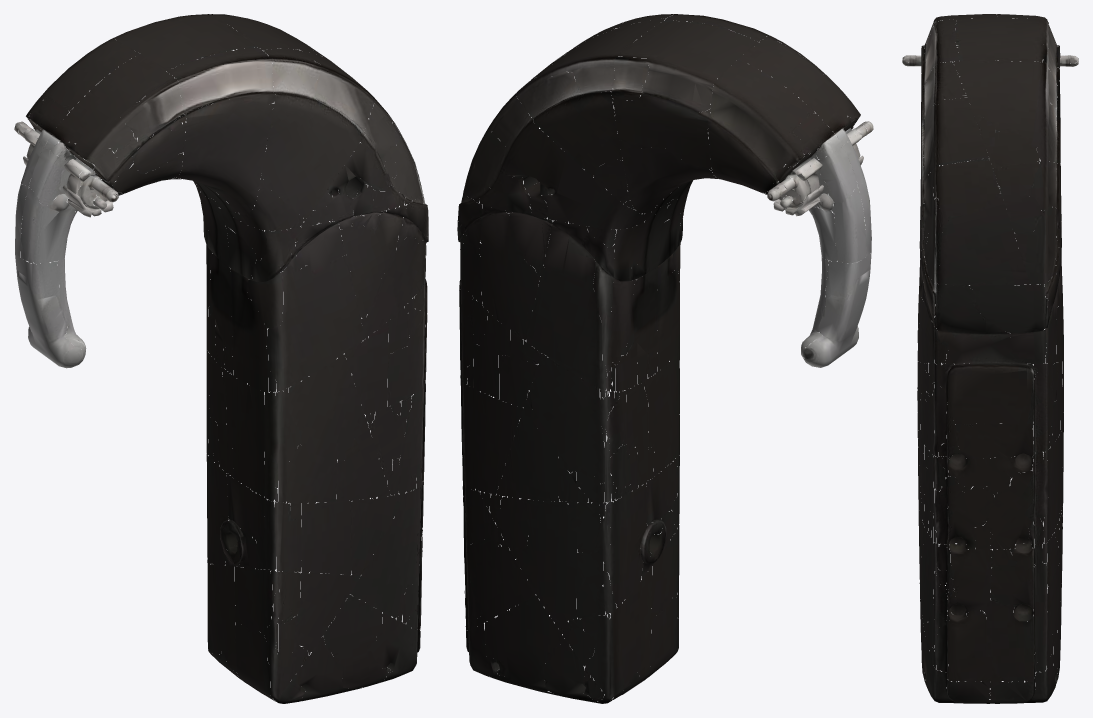
Rendered from sonnet2-audiostream.glb.
The picture shows the model from 3 angles, left to right: view 1: azimuth 30°, elevation 25°; view 2: azimuth 150°, elevation 25°; view 3: azimuth 270°, elevation 25°; orthographic projection. The views are drawn at different scales.
Parts seen in each view (by area): view 1: tripo_node_73c2c568-758e-4055-a918-a790c5e45568; view 2: tripo_node_73c2c568-758e-4055-a918-a790c5e45568; view 3: tripo_node_73c2c568-758e-4055-a918-a790c5e45568.
Boxes of the visible parts, box(x1,y1,x2,y2) form: tripo_node_73c2c568-758e-4055-a918-a790c5e45568: box(14, 14, 428, 703); tripo_node_73c2c568-758e-4055-a918-a790c5e45568: box(457, 14, 873, 703); tripo_node_73c2c568-758e-4055-a918-a790c5e45568: box(902, 14, 1078, 703).
Size of the model in its own units: 0.598 by 0.9788 by 0.2666.
Materials: 1 (1 with a texture image).
